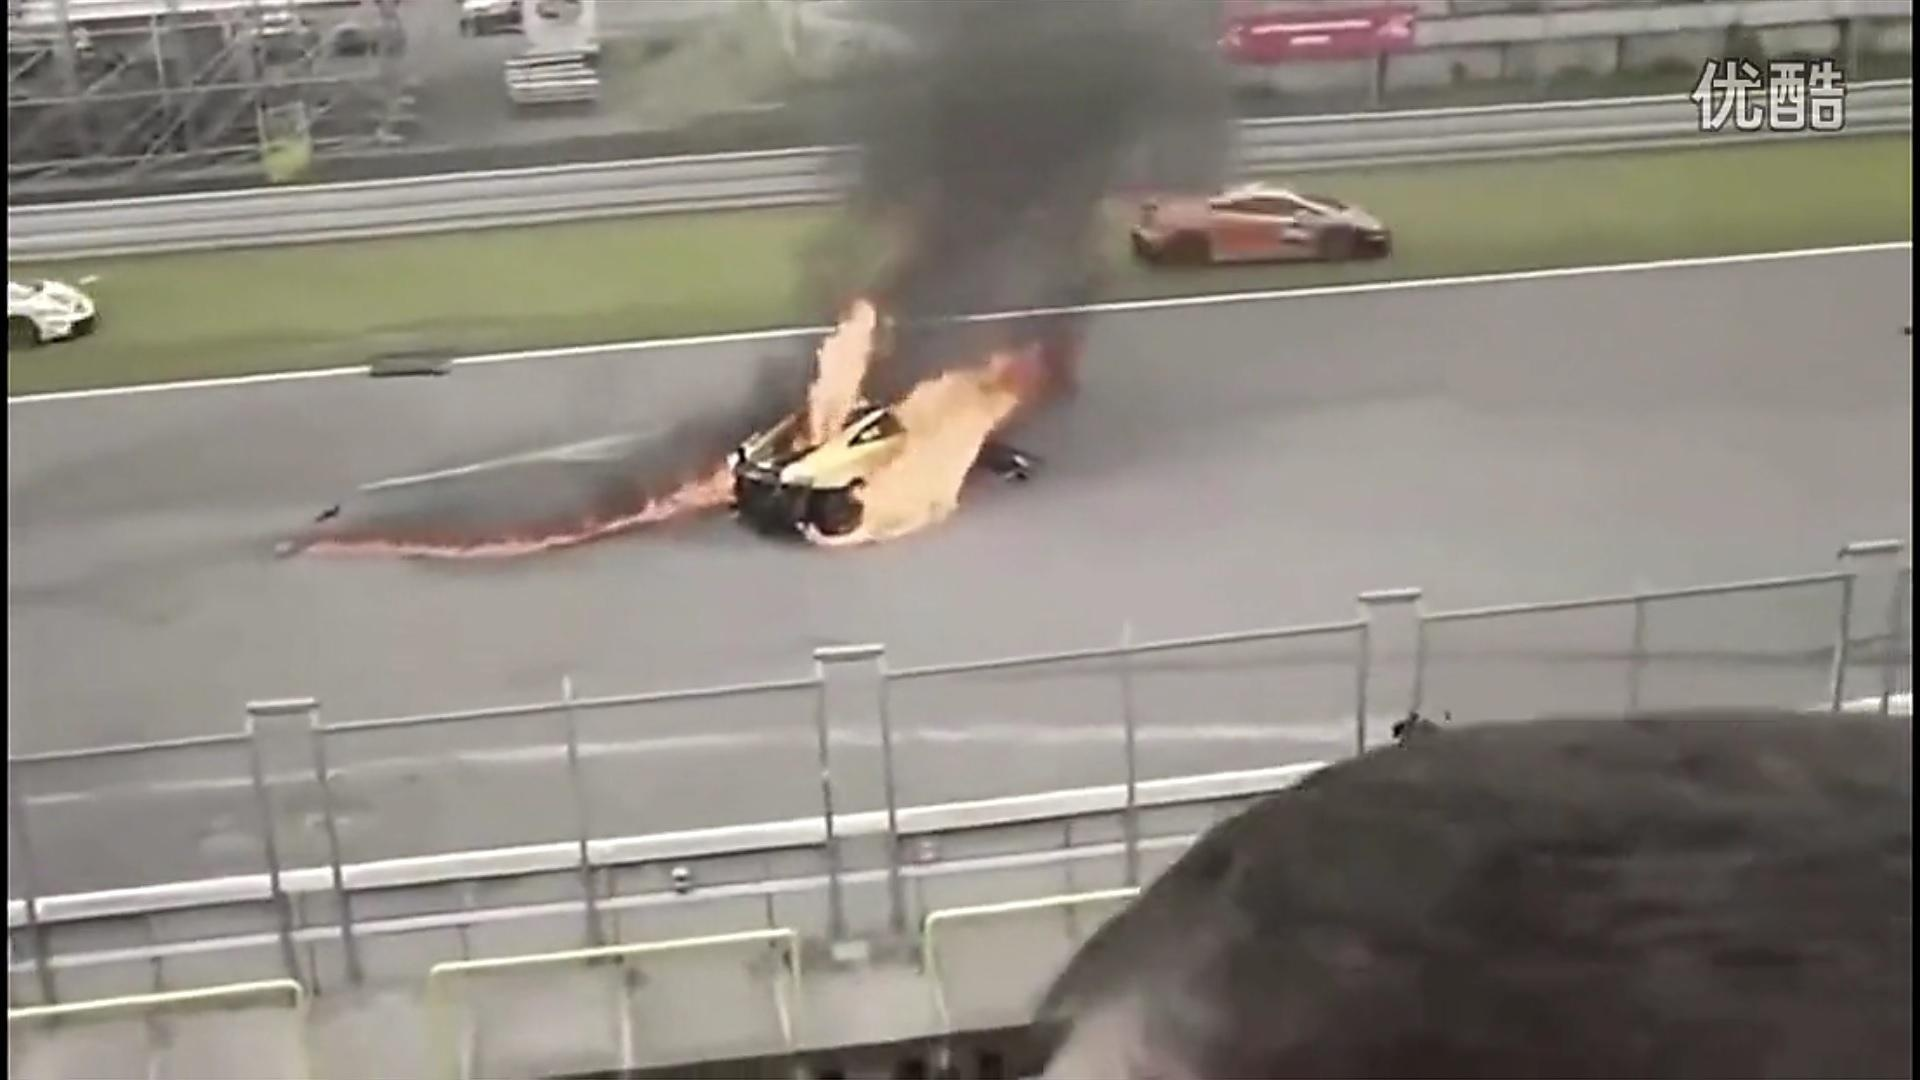fire: (322, 306, 1058, 570)
